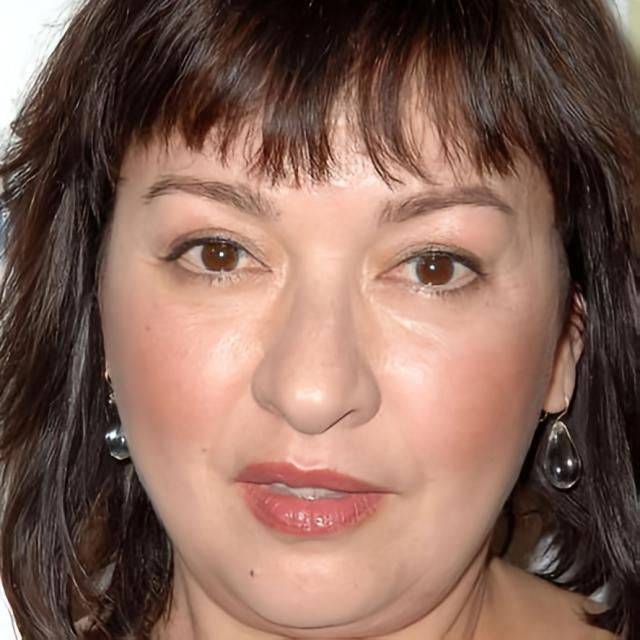content: (98, 54, 571, 630)
